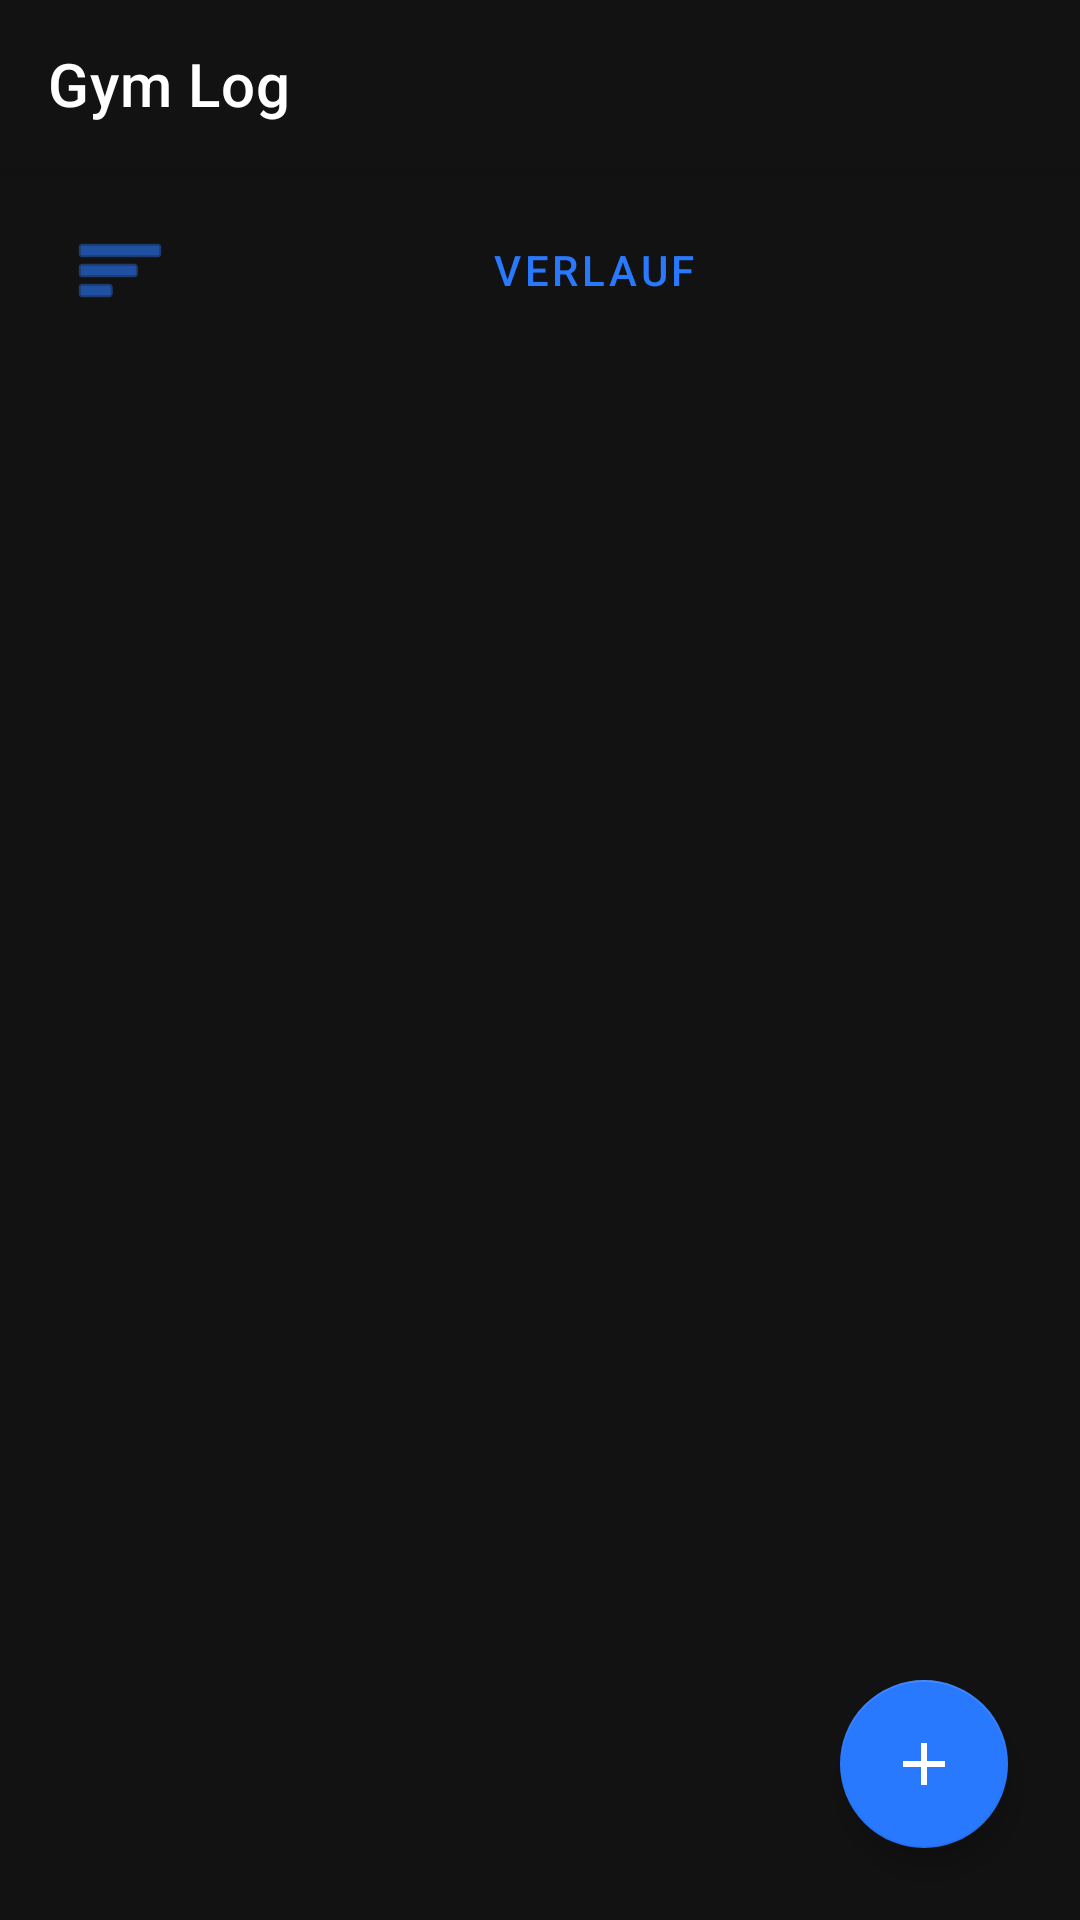

Icon bounding boxes for this 1080 × 1920 phone screenshot, format (x1, y1, x2, y2):
Neue Übung hinzufügen: (840, 1680, 1008, 1848)
